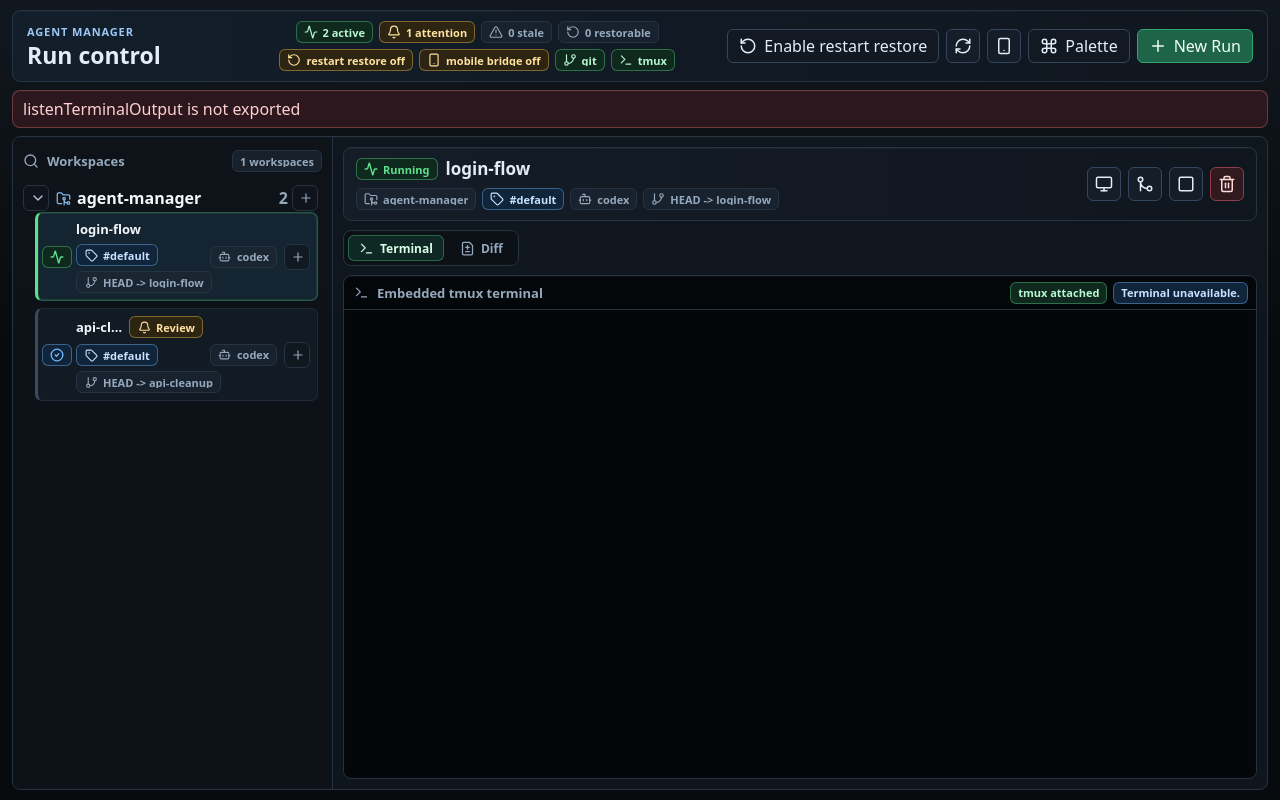
Test case: App › enables tmux restart restore when plugin setup is missing
Check: the heading "login-flow" is shown, box x1=446 y1=158 x2=530 y2=180
Click the button "Enable restart restore": (833, 46) x1=727 y1=29 x2=939 y2=63
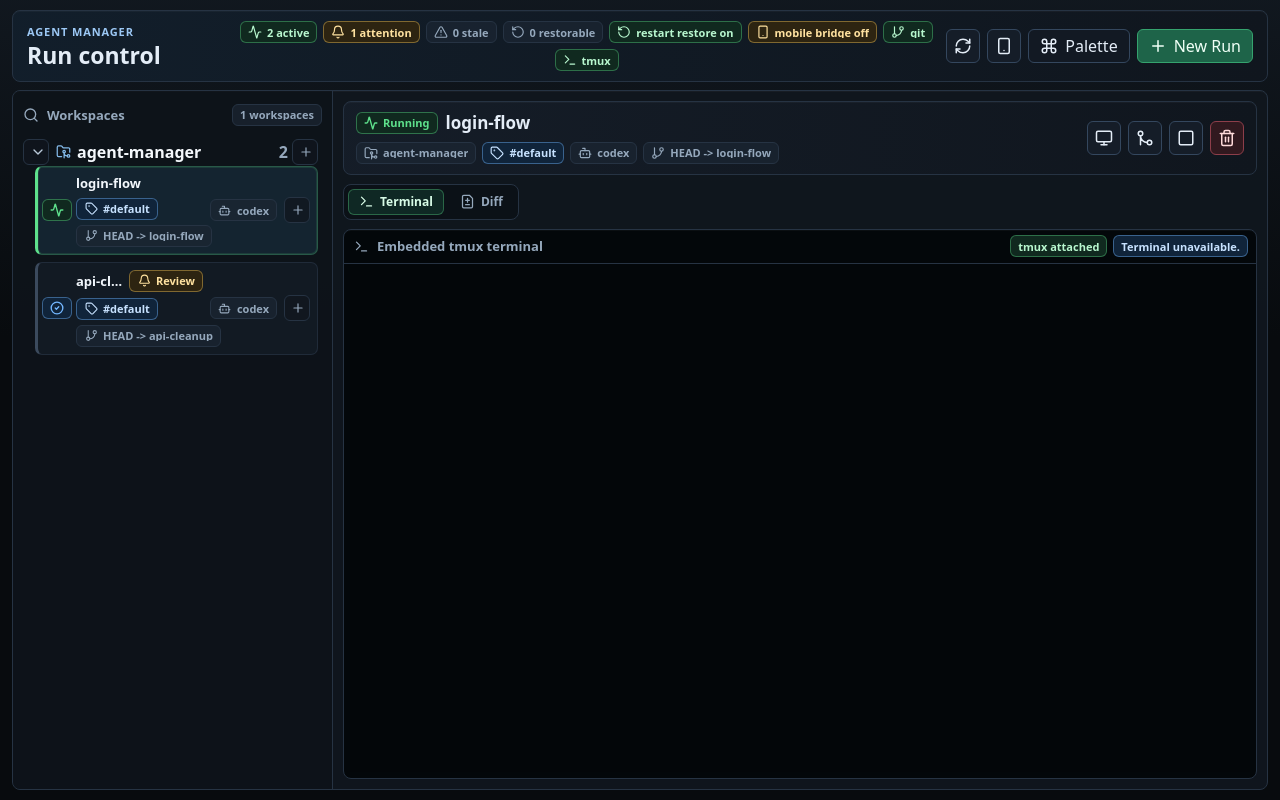
Check: the text "restart restore on" is shown, box x1=636 y1=26 x2=734 y2=38
